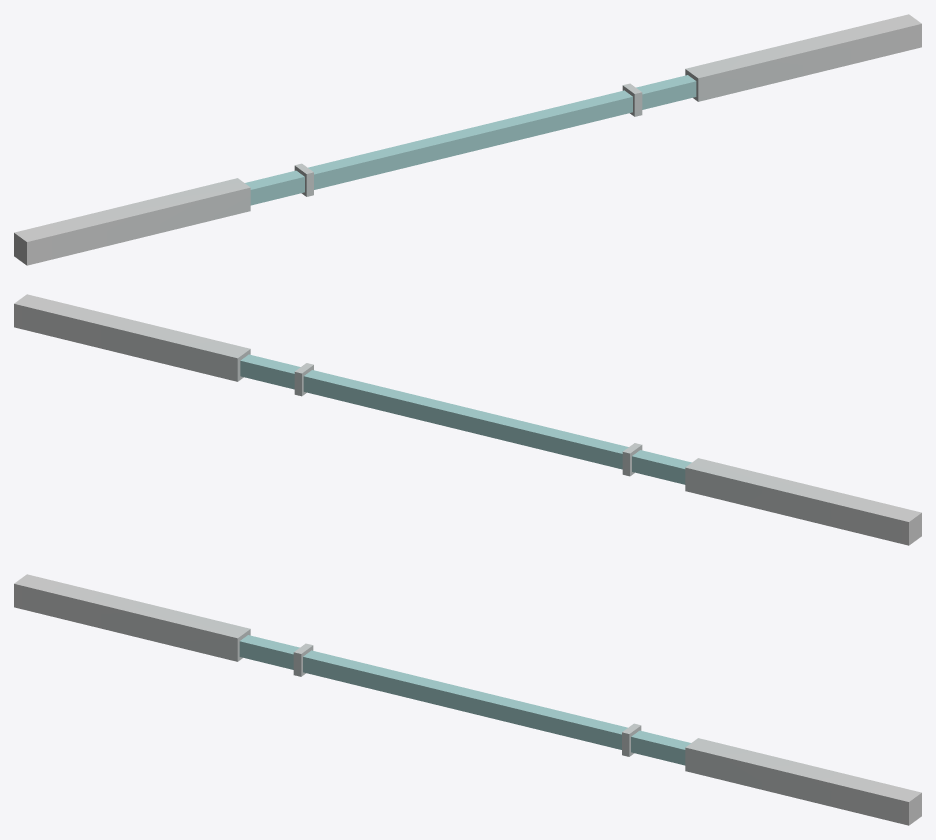
The picture shows the model from 3 angles, top to bottom: view 1: azimuth 30°, elevation 25°; view 2: azimuth 150°, elevation 25°; view 3: azimuth 330°, elevation 25°; orthographic projection.
Parts seen in each view (by area): view 1: middle_shaft, end_sleeve.001, end_sleeve; view 2: middle_shaft, end_sleeve.001, end_sleeve; view 3: middle_shaft, end_sleeve, end_sleeve.001.
Part boxes in pixels (bbox=[...]): middle_shaft: bbox=[245, 75, 696, 205]; end_sleeve.001: bbox=[14, 178, 250, 265]; end_sleeve: bbox=[685, 14, 921, 101]; middle_shaft: bbox=[240, 354, 691, 484]; end_sleeve.001: bbox=[685, 458, 921, 545]; end_sleeve: bbox=[14, 294, 250, 381]; middle_shaft: bbox=[239, 635, 690, 765]; end_sleeve: bbox=[685, 738, 921, 825]; end_sleeve.001: bbox=[14, 574, 250, 661].
Size of the model in its own units: 1.8 by 0.0453 by 0.0452.
